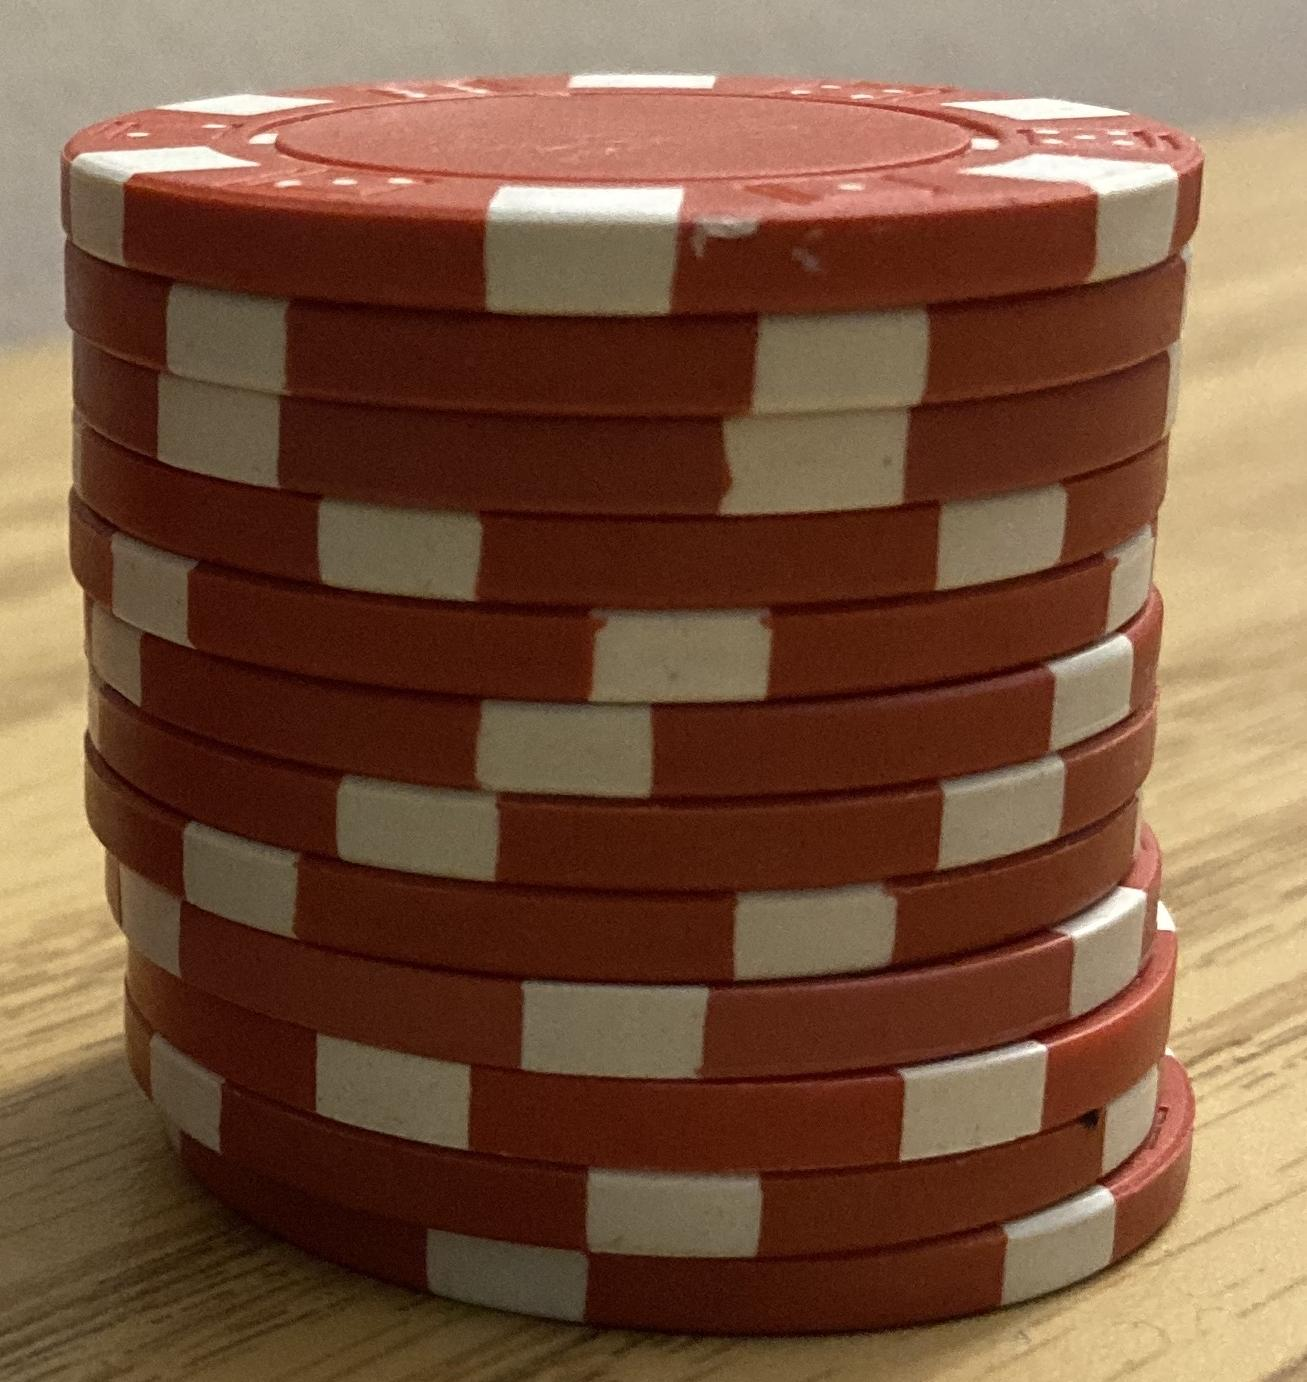Chip: (1, 1, 1307, 1382)
